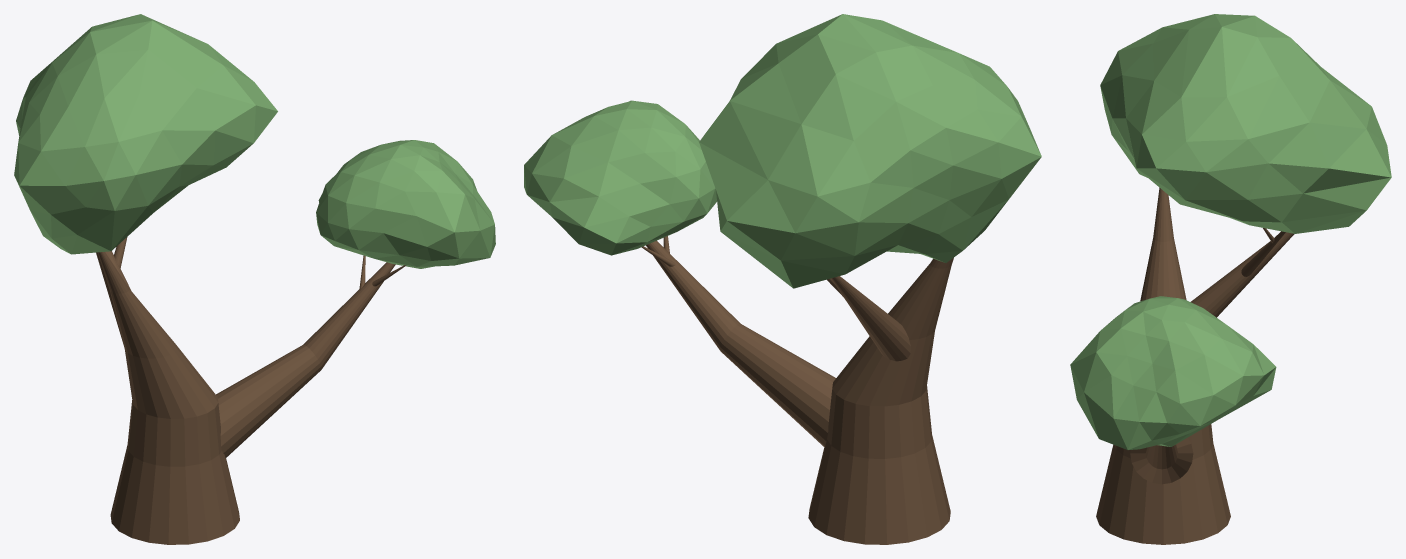
The model's file is tree4.fbx.
3 views of the same model, side by side, from view 1: azimuth 30°, elevation 25°; view 2: azimuth 150°, elevation 25°; view 3: azimuth 270°, elevation 25° (orthographic). The views are drawn at different scales.
Parts seen in each view (by area): view 1: pPlatonic7; view 2: pPlatonic7; view 3: pPlatonic7.
Part boxes in pixels (bbox=[...]): pPlatonic7: bbox=[14, 14, 495, 544]; pPlatonic7: bbox=[524, 14, 1041, 544]; pPlatonic7: bbox=[1070, 14, 1391, 544].
Size of the model in its own units: 6.74 by 6.66 by 3.94.
